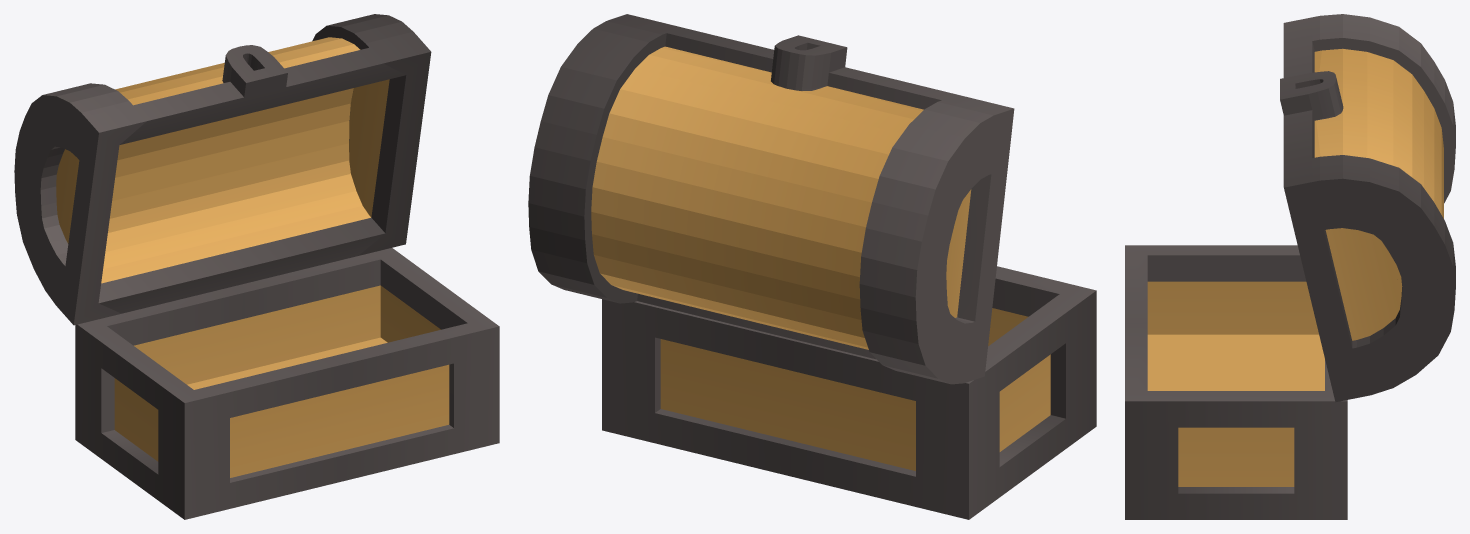
Rendered from Safe Chest 2 Opened.fbx.
3 views of the same model, side by side, from view 1: azimuth 30°, elevation 25°; view 2: azimuth 150°, elevation 25°; view 3: azimuth 270°, elevation 25° (orthographic). The views are drawn at different scales.
Parts seen in each view (by area): view 1: Safe Chest 2 Opened; view 2: Safe Chest 2 Opened; view 3: Safe Chest 2 Opened.
Part boxes in pixels (x1,y1,x2,y2): Safe Chest 2 Opened: [14, 14, 499, 519]; Safe Chest 2 Opened: [528, 14, 1096, 519]; Safe Chest 2 Opened: [1125, 14, 1455, 519].
Bounding box in the file's own units: 103 × 106 × 86.94.
